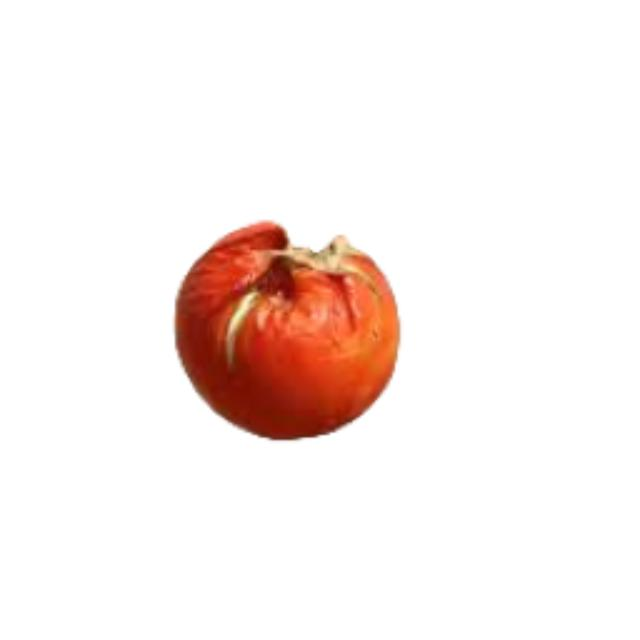defect: (164, 217, 403, 444)
